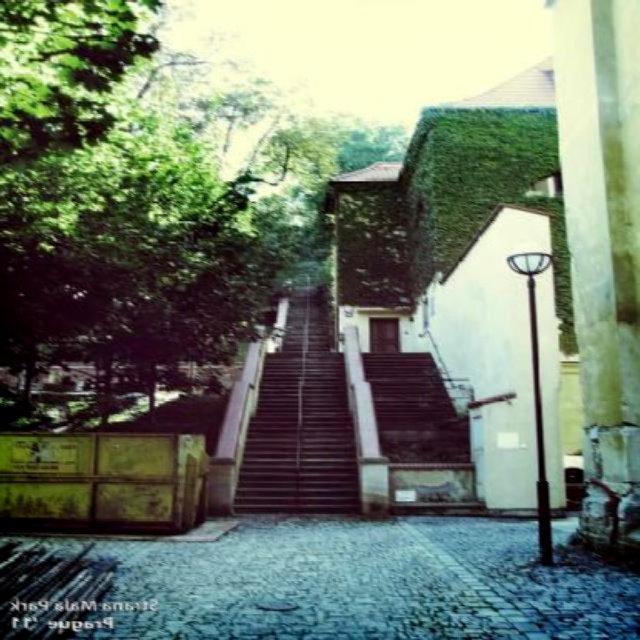stair: (232, 285, 362, 517), (365, 351, 458, 418)
